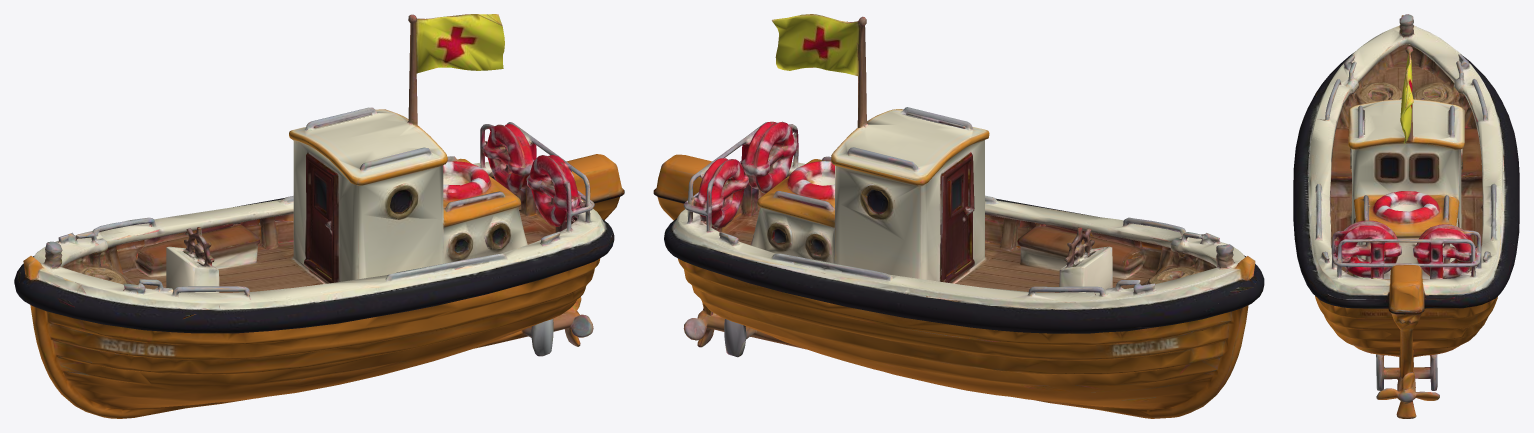
Rendered from rescue-boat.glb.
3 renders of one model, left to right at view 1: azimuth 30°, elevation 25°; view 2: azimuth 150°, elevation 25°; view 3: azimuth 270°, elevation 25°, orthographic. The views are drawn at different scales.
Parts seen in each view (by area): view 1: Mesh_0; view 2: Mesh_0; view 3: Mesh_0.
Boxes of the visible parts, bbox=[...] form: Mesh_0: bbox=[14, 14, 624, 418]; Mesh_0: bbox=[653, 14, 1264, 418]; Mesh_0: bbox=[1293, 14, 1519, 418].
Bounding box in the file's own units: 1.9 × 1.11 × 0.745.
1 material, 1 textured.
